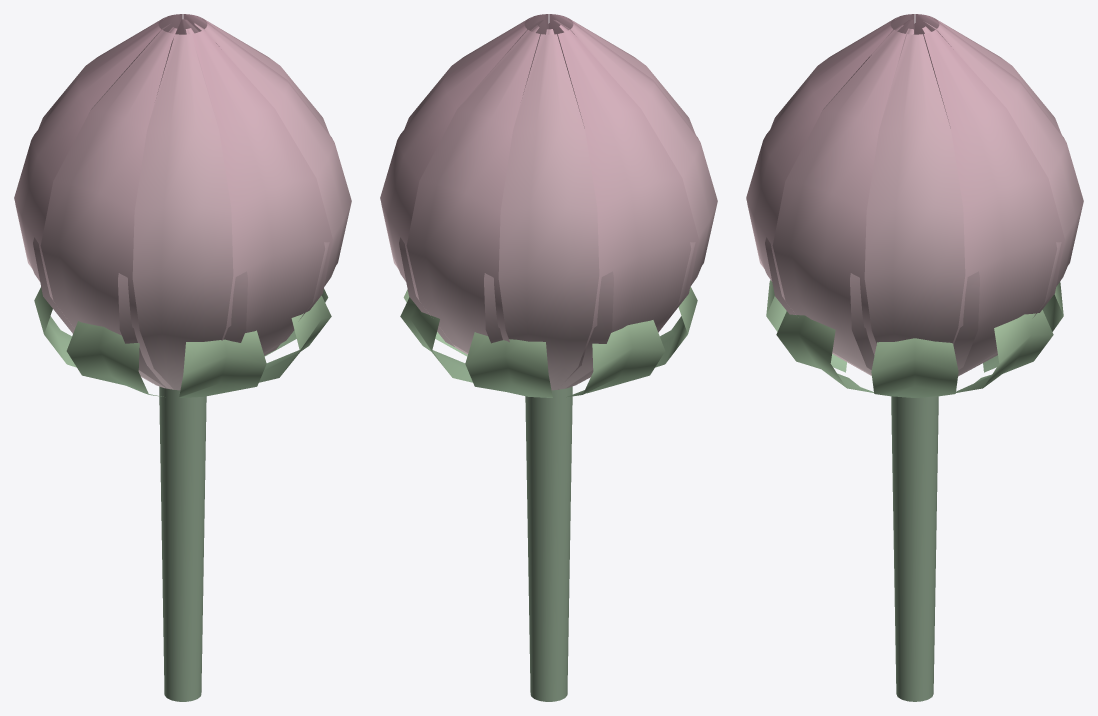
The model's file is lotus_bud_p012b_quality.glb.
The picture shows the model from 3 angles, left to right: view 1: azimuth 30°, elevation 25°; view 2: azimuth 150°, elevation 25°; view 3: azimuth 270°, elevation 25°; orthographic projection.
Parts seen in each view (by area): view 1: lotus_bud_p012b_root; view 2: lotus_bud_p012b_root; view 3: lotus_bud_p012b_root.
Part boxes in pixels (box(x1,y1,x2,y2)): lotus_bud_p012b_root: box(14, 14, 351, 701); lotus_bud_p012b_root: box(380, 14, 717, 701); lotus_bud_p012b_root: box(746, 14, 1083, 701).
Size of the model in its own units: 0.2886 by 0.634 by 0.2897.
